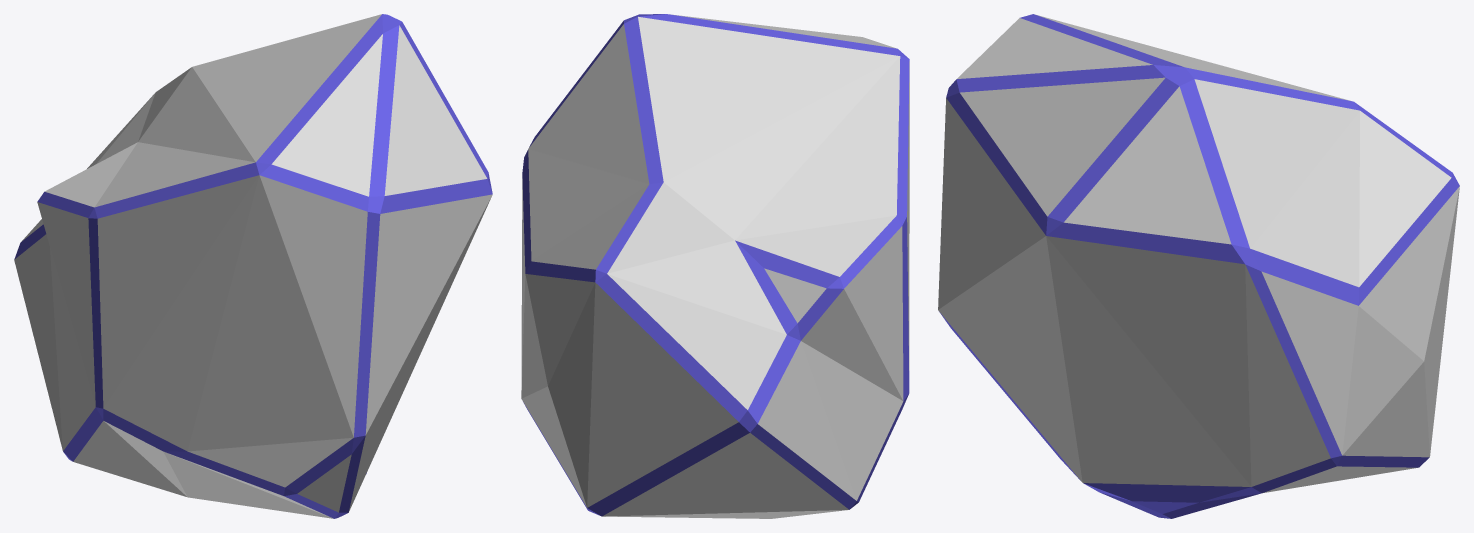
File: stone_007.fbx
3 renders of one model, left to right at view 1: azimuth 30°, elevation 25°; view 2: azimuth 150°, elevation 25°; view 3: azimuth 270°, elevation 25°, orthographic. The views are drawn at different scales.
Parts seen in each view (by area): view 1: Cube; view 2: Cube; view 3: Cube.
Part boxes in pixels (x1,y1,x2,y2): Cube: (14, 14, 492, 518); Cube: (521, 14, 909, 518); Cube: (938, 14, 1459, 518).
Size of the model in its own units: 143 by 169 by 167.
